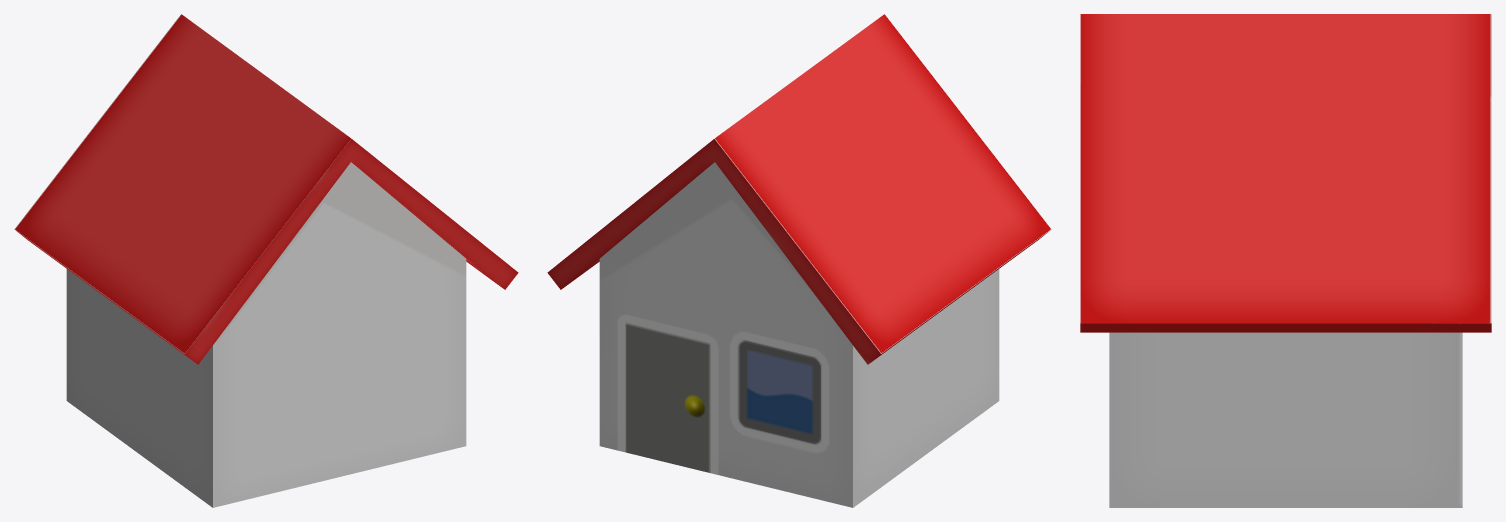
The model's file is house.fbx.
The picture shows the model from 3 angles, left to right: view 1: azimuth 30°, elevation 25°; view 2: azimuth 150°, elevation 25°; view 3: azimuth 270°, elevation 25°; orthographic projection. The views are drawn at different scales.
Parts seen in each view (by area): view 1: House; view 2: House; view 3: House.
Boxes of the visible parts, bbox=[...] form: House: bbox=[14, 14, 518, 507]; House: bbox=[547, 14, 1051, 507]; House: bbox=[1080, 14, 1491, 507].
Bounding box in the file's own units: 179 × 178 × 158.
Materials: 1 (1 with a texture image).
